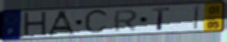A: (46, 10, 77, 36)
C: (83, 7, 111, 36)
H: (22, 10, 49, 38)
I: (192, 5, 201, 31)
R: (112, 9, 140, 32)
T: (151, 7, 172, 31)
